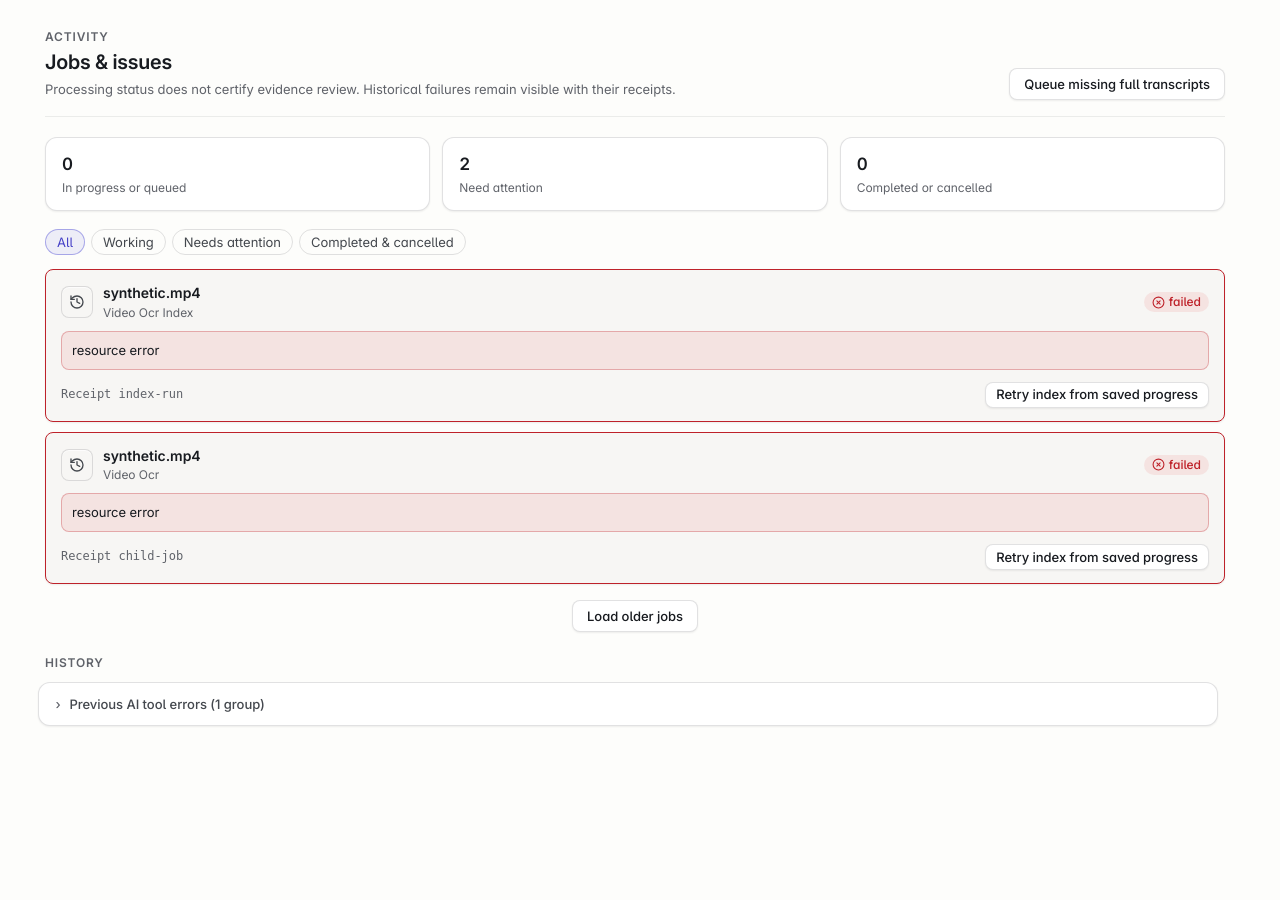
loads older job receipts from a bounded page
Click the button "Load older jobs".
click(635, 616)  # box [572,600,698,632]
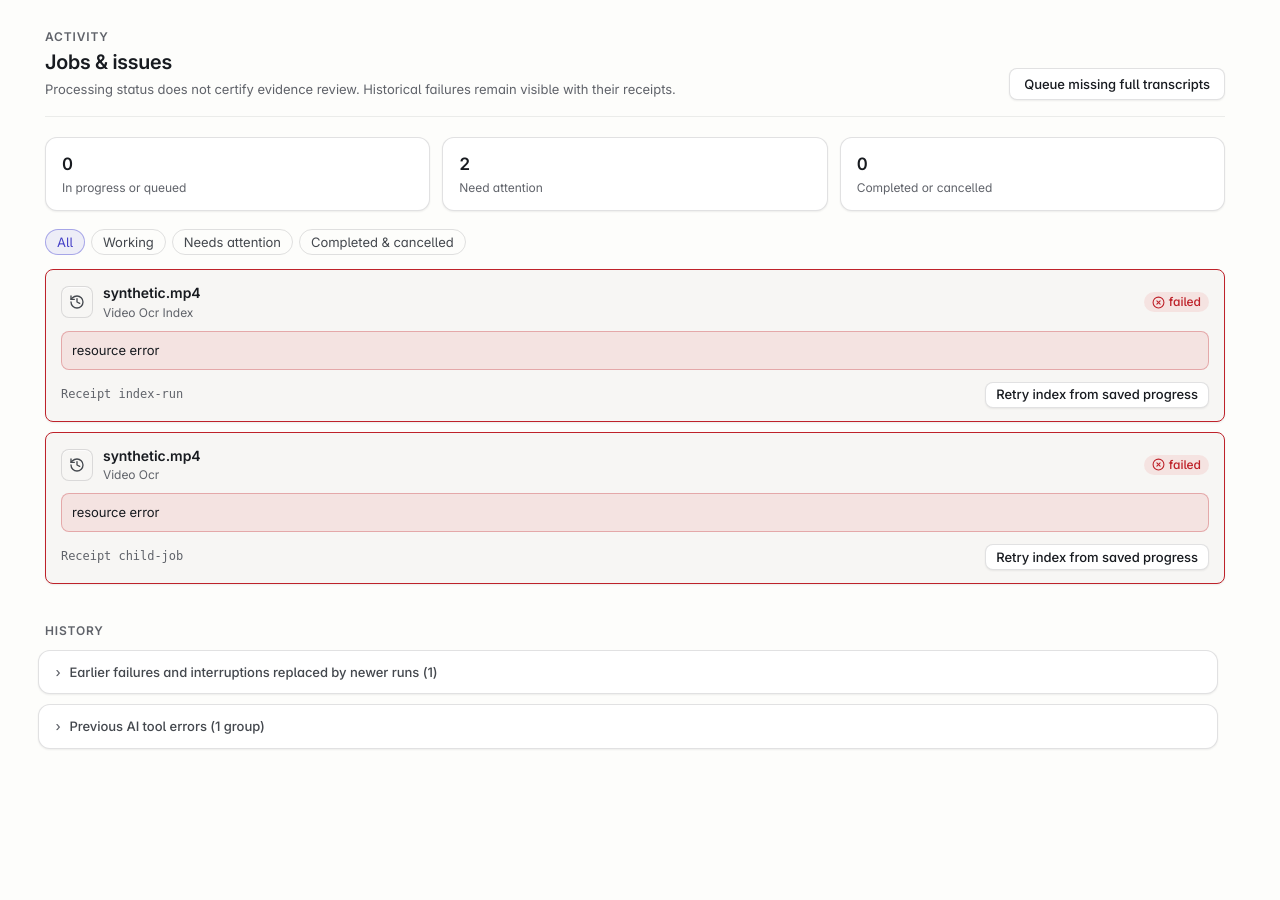
Check: the heading "Earlier failures and interruptions replaced by newer runs (1)" is shown, box [69,664,438,680]
Check: the button "Load older jobs" is gone
